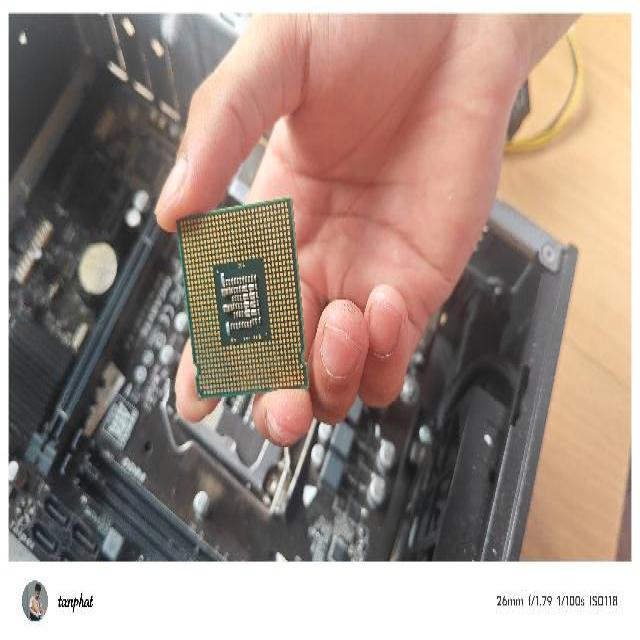CPU: (172, 196, 310, 400)
